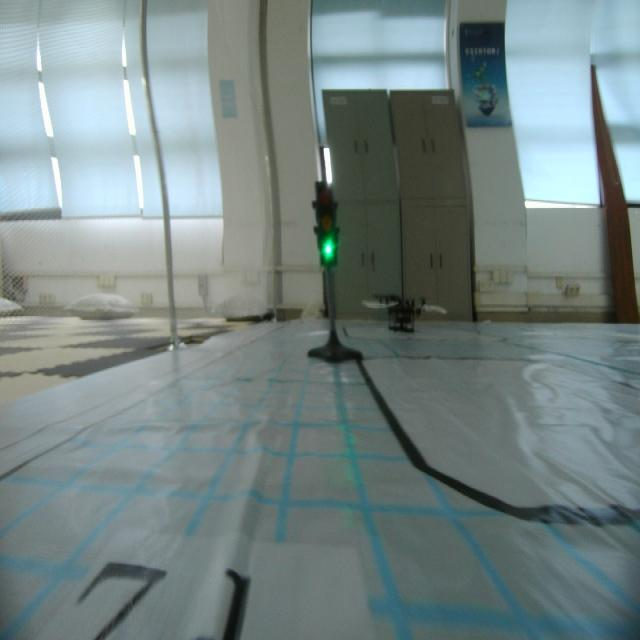green: (299, 176, 347, 267)
